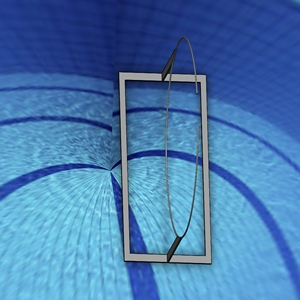circle: (118, 29, 212, 265), (160, 33, 201, 238)
